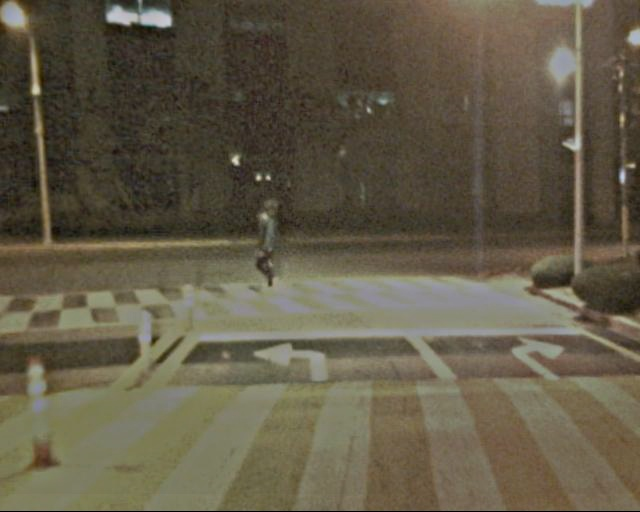person: (247, 208, 283, 295)
